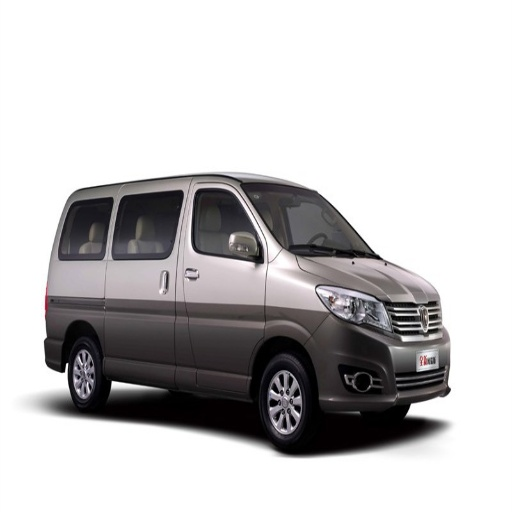front_bumper: (309, 301, 452, 410)
front_glass: (250, 183, 378, 257)
front_right_door: (175, 183, 267, 391)
front_right_light: (316, 287, 389, 330)
trunk: (55, 263, 125, 343)
